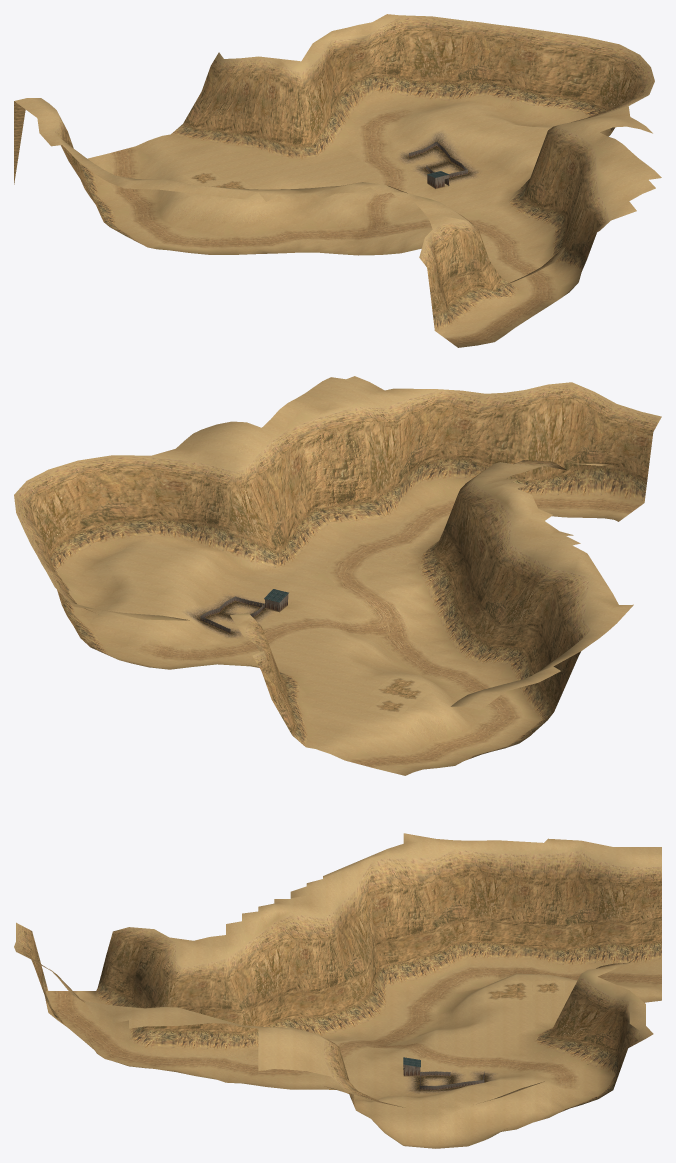
The model's file is Mission5_Zone02.glb.
3 views of the same model, one above another, from view 1: azimuth 30°, elevation 25°; view 2: azimuth 150°, elevation 25°; view 3: azimuth 270°, elevation 25° (orthographic). The views are drawn at different scales.
Visible parts, largest first — view 1: MISSION5_ZONE02259, MISSION5_ZONE02188, MISSION5_ZONE02257, MISSION5_ZONE02236, MISSION5_ZONE02253, MISSION5_ZONE02207, MISSION5_ZONE02225, MISSION5_ZONE02268, MISSION5_ZONE02242, MISSION5_ZONE02235, MISSION5_ZONE02073, MISSION5_ZONE02243 (+83 smaller); view 2: MISSION5_ZONE02042, MISSION5_ZONE02024, MISSION5_ZONE02001, MISSION5_ZONE02050, MISSION5_ZONE02108, MISSION5_ZONE02007, MISSION5_ZONE02128, MISSION5_ZONE02106, MISSION5_ZONE02002, MISSION5_ZONE02015, MISSION5_ZONE02107, MISSION5_ZONE02073 (+82 smaller); view 3: MISSION5_ZONE02171, MISSION5_ZONE02191, MISSION5_ZONE02132, MISSION5_ZONE02151, MISSION5_ZONE02067, MISSION5_ZONE02210, MISSION5_ZONE02038, MISSION5_ZONE02228, MISSION5_ZONE02046, MISSION5_ZONE02055, MISSION5_ZONE02246, MISSION5_ZONE02263 (+82 smaller).
Boxes of the visible parts, left/top/right/bottom form: MISSION5_ZONE02259: left=387, top=30, right=434, bottom=96; MISSION5_ZONE02188: left=539, top=51, right=608, bottom=112; MISSION5_ZONE02257: left=334, top=36, right=381, bottom=109; MISSION5_ZONE02236: left=279, top=61, right=314, bottom=145; MISSION5_ZONE02253: left=210, top=57, right=270, bottom=148; MISSION5_ZONE02207: left=512, top=46, right=576, bottom=106; MISSION5_ZONE02225: left=469, top=37, right=515, bottom=106; MISSION5_ZONE02268: left=183, top=66, right=250, bottom=143; MISSION5_ZONE02242: left=430, top=34, right=477, bottom=101; MISSION5_ZONE02235: left=250, top=74, right=278, bottom=155; MISSION5_ZONE02073: left=515, top=139, right=568, bottom=228; MISSION5_ZONE02243: left=457, top=20, right=494, bottom=82; MISSION5_ZONE02042: left=317, top=401, right=370, bottom=504; MISSION5_ZONE02024: left=382, top=397, right=445, bottom=493; MISSION5_ZONE02001: left=582, top=404, right=640, bottom=499; MISSION5_ZONE02050: left=300, top=430, right=358, bottom=524; MISSION5_ZONE02108: left=143, top=470, right=192, bottom=543; MISSION5_ZONE02007: left=501, top=400, right=562, bottom=495; MISSION5_ZONE02128: left=61, top=468, right=117, bottom=544; MISSION5_ZONE02106: left=201, top=485, right=253, bottom=572; MISSION5_ZONE02002: left=562, top=382, right=616, bottom=473; MISSION5_ZONE02015: left=425, top=391, right=476, bottom=487; MISSION5_ZONE02107: left=171, top=476, right=227, bottom=552; MISSION5_ZONE02073: left=260, top=454, right=327, bottom=561; MISSION5_ZONE02171: left=468, top=871, right=500, bottom=959; MISSION5_ZONE02191: left=500, top=876, right=532, bottom=959; MISSION5_ZONE02132: left=396, top=855, right=439, bottom=972; MISSION5_ZONE02151: left=434, top=847, right=468, bottom=944; MISSION5_ZONE02067: left=266, top=918, right=310, bottom=1016; MISSION5_ZONE02210: left=532, top=880, right=565, bottom=958; MISSION5_ZONE02038: left=171, top=962, right=210, bottom=1049; MISSION5_ZONE02228: left=564, top=858, right=597, bottom=948; MISSION5_ZONE02046: left=208, top=957, right=240, bottom=1049; MISSION5_ZONE02055: left=238, top=936, right=272, bottom=1026; MISSION5_ZONE02246: left=596, top=847, right=629, bottom=921; MISSION5_ZONE02263: left=629, top=883, right=661, bottom=965.
Size of the model in its own units: 159 by 31.15 by 160.
26 materials, 26 textured.
